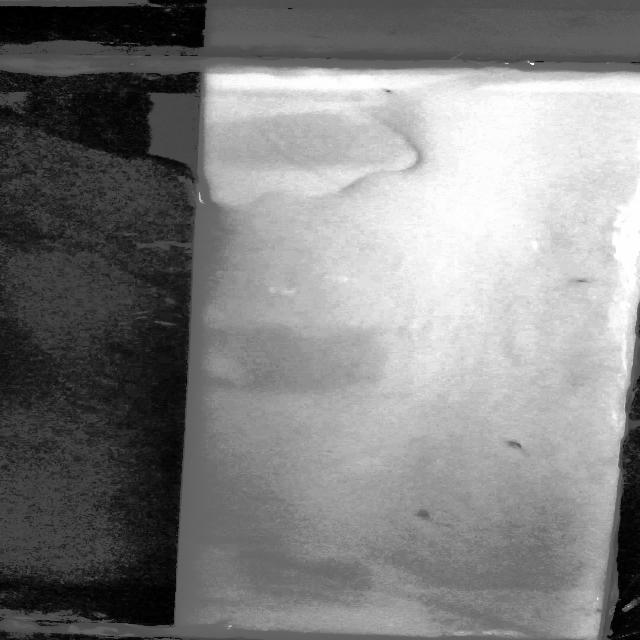shrimp: (512, 433, 542, 460), (376, 84, 412, 98), (566, 272, 593, 290), (416, 511, 442, 529)
